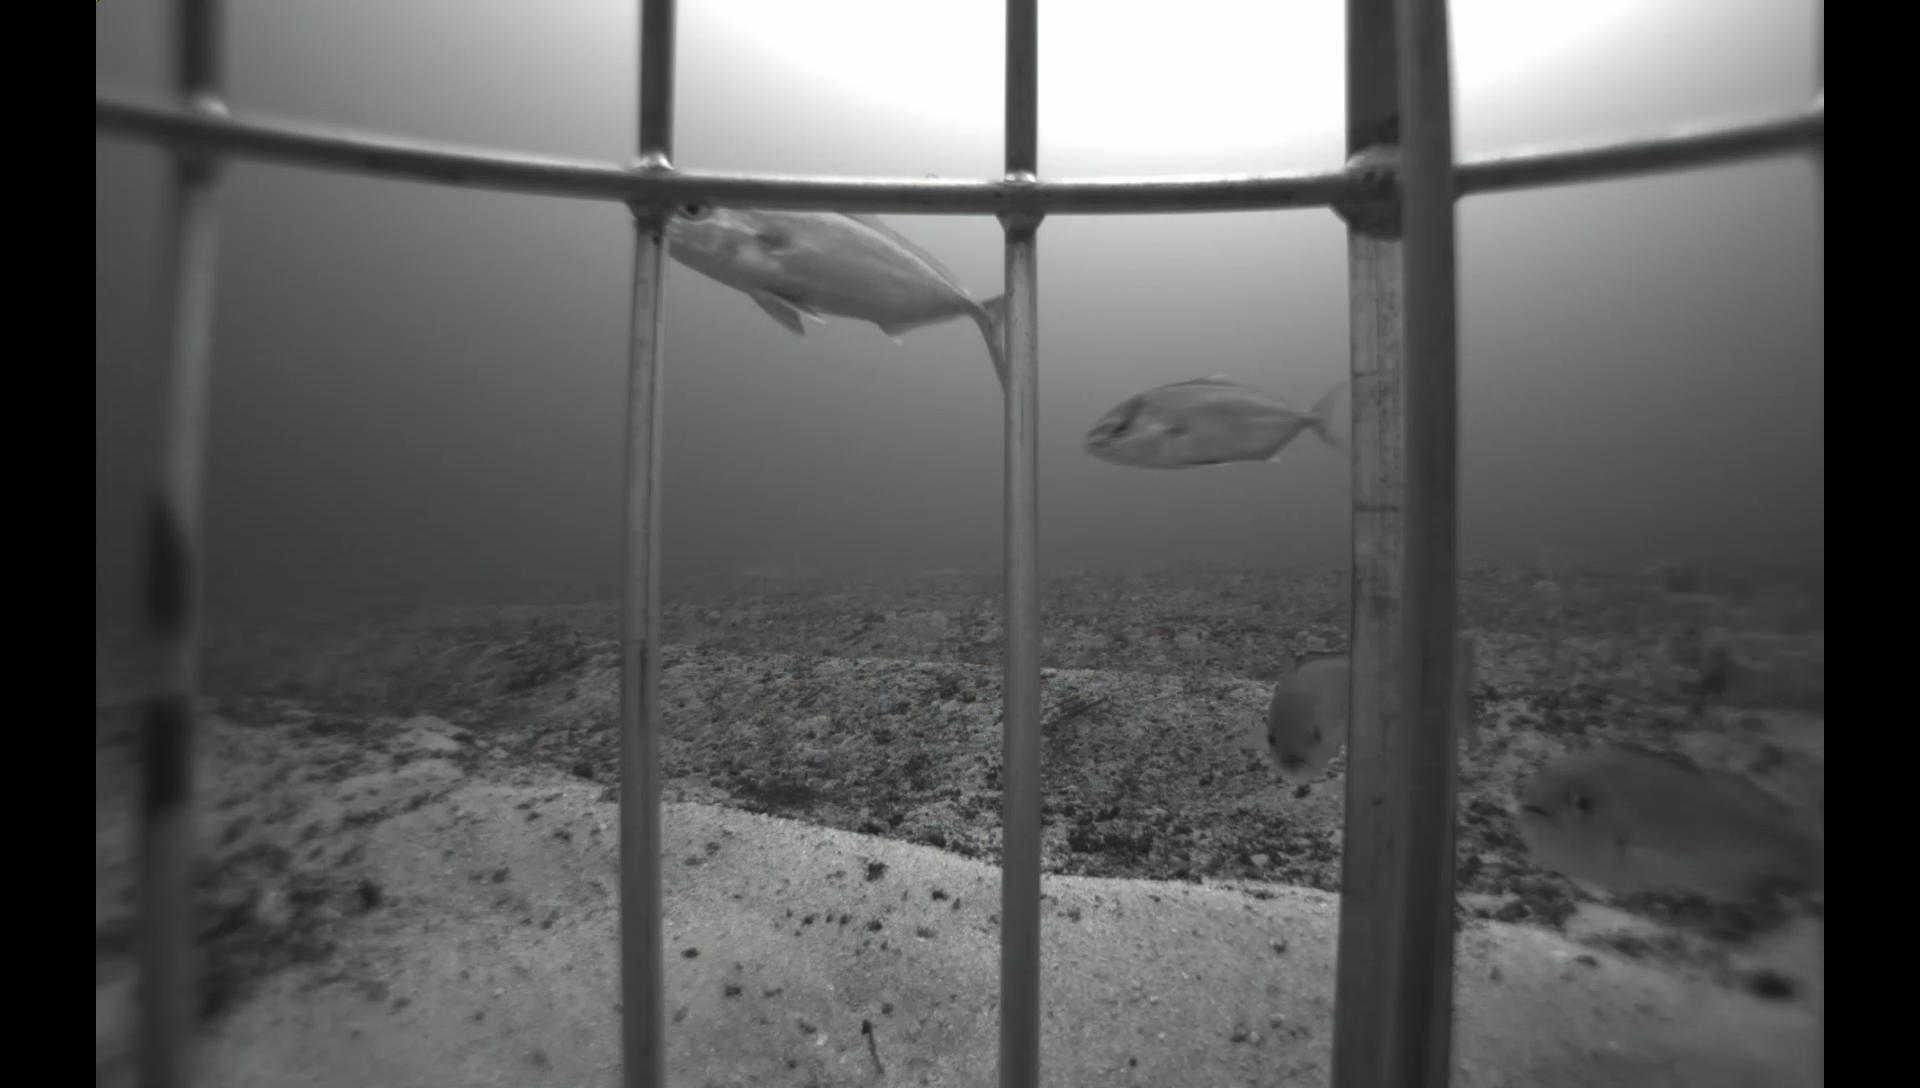RHOMBOPLITESAURORUBENS-170152001: (1495, 731, 1821, 923), (1253, 626, 1489, 795)
SERIOLAFASCIATA-170113103: (661, 200, 1011, 397), (1073, 364, 1352, 480)
